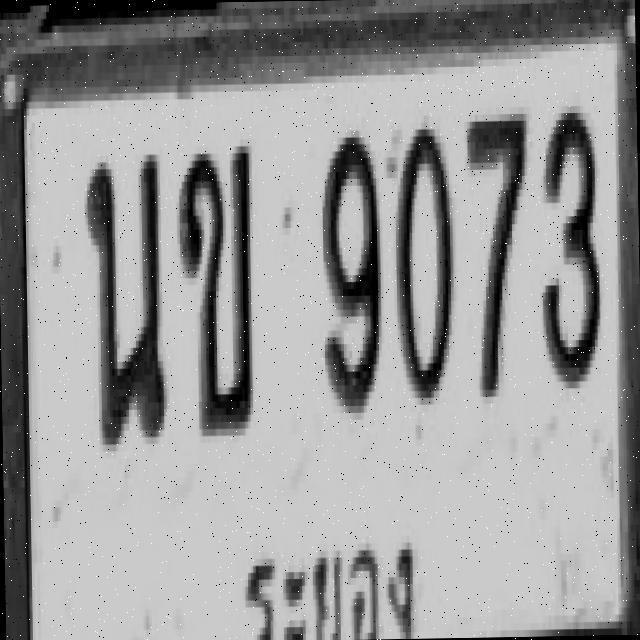0: (391, 122, 455, 404)
11KhorKhai: (175, 139, 256, 436)
3: (536, 105, 600, 381)
34NorNu: (81, 148, 166, 444)
7: (464, 106, 530, 396)
9: (318, 130, 382, 413)
Rayong: (237, 522, 425, 640)
